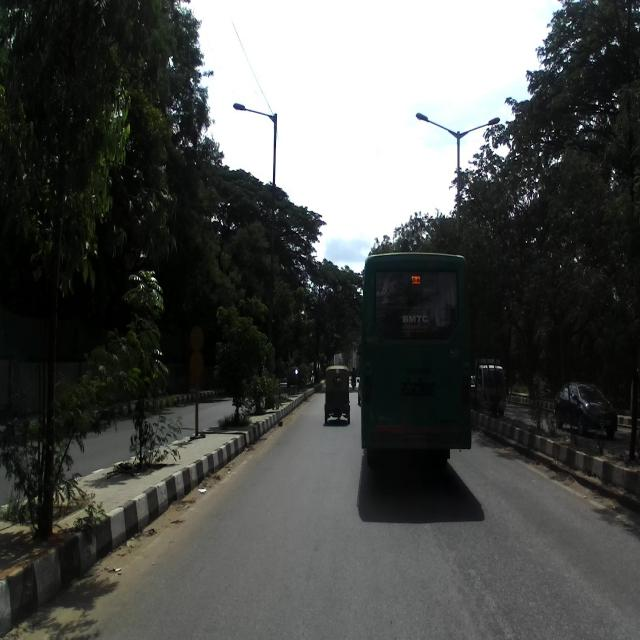Car: (555, 382, 616, 438)
autorickshaw: (322, 362, 352, 425)
bus: (358, 249, 473, 469)
